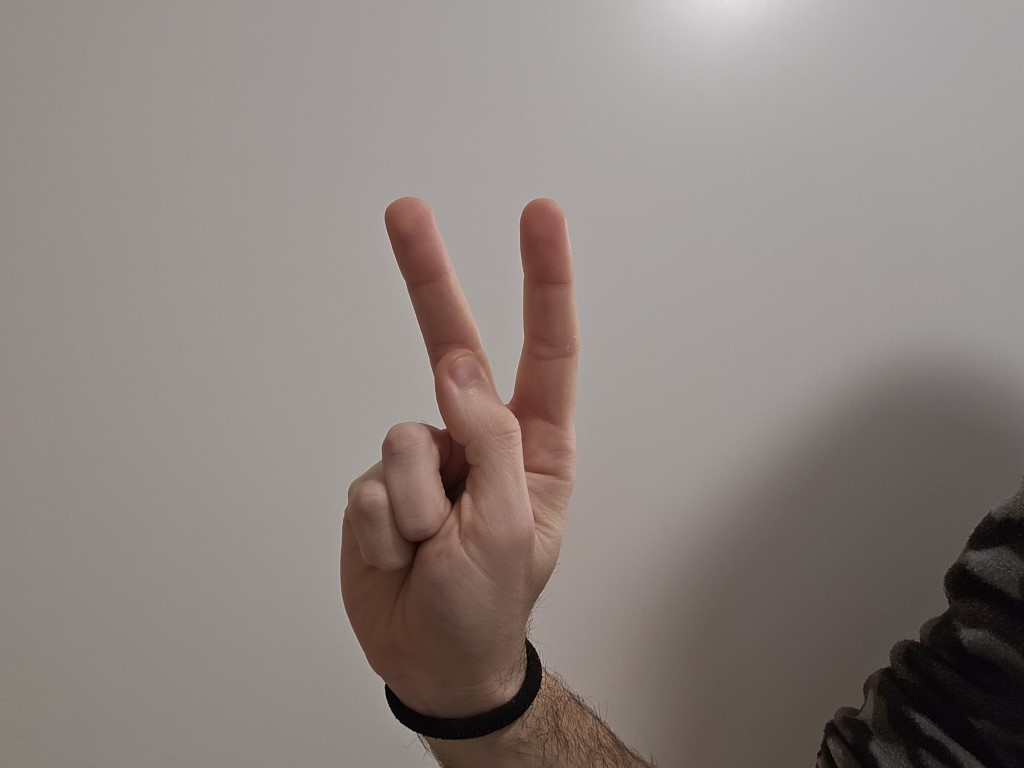k: (273, 194, 600, 681)
